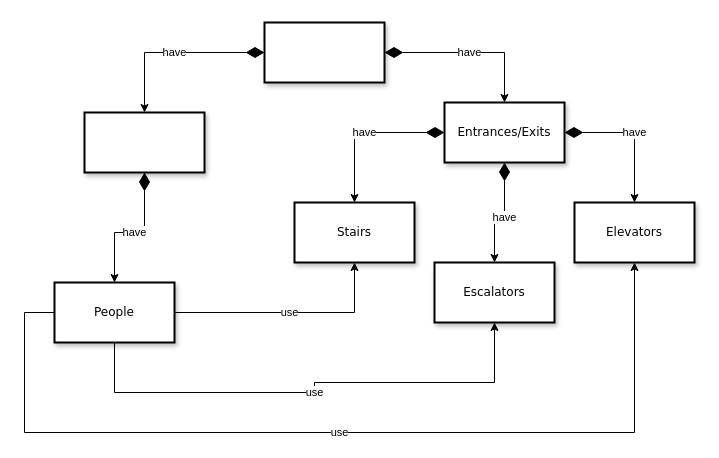
Image size: 719x458. Some labels were removed from this diagram. Each missing label, with the centre of its shape:
Metro/Subway Station: point 325,53
Trains: point 145,143
